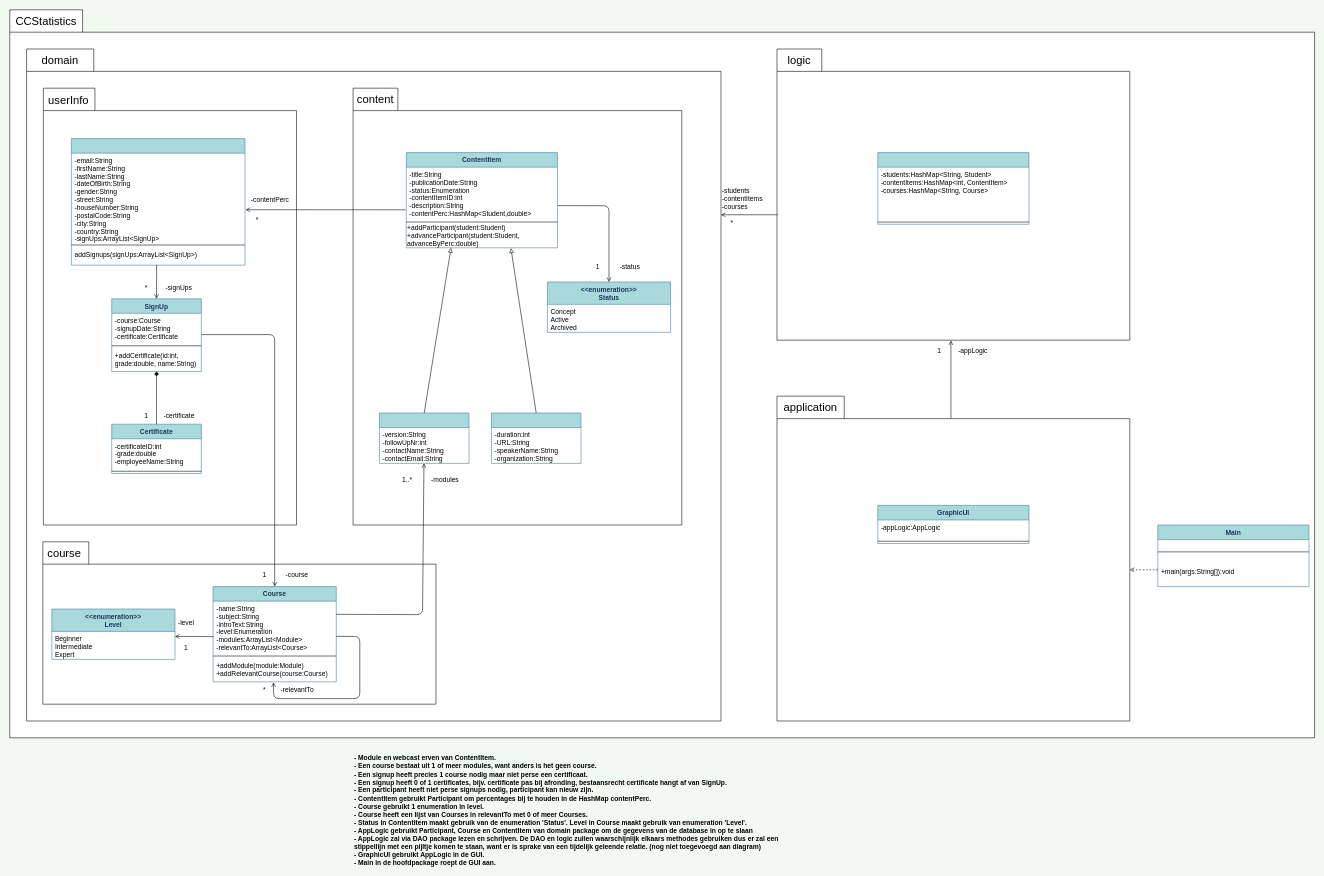
Some shapes in this 1324 by 876 pixel diagram are drawn without their labels. The shapes that lost their labels are listed below. From the top down, each one's box as (x1, y1, x2, y2) in pixels, then its label:
(71, 138, 245, 265): Student
(877, 152, 1029, 224): AppLogic
(379, 412, 469, 463): Module
(491, 412, 581, 463): Webcast
